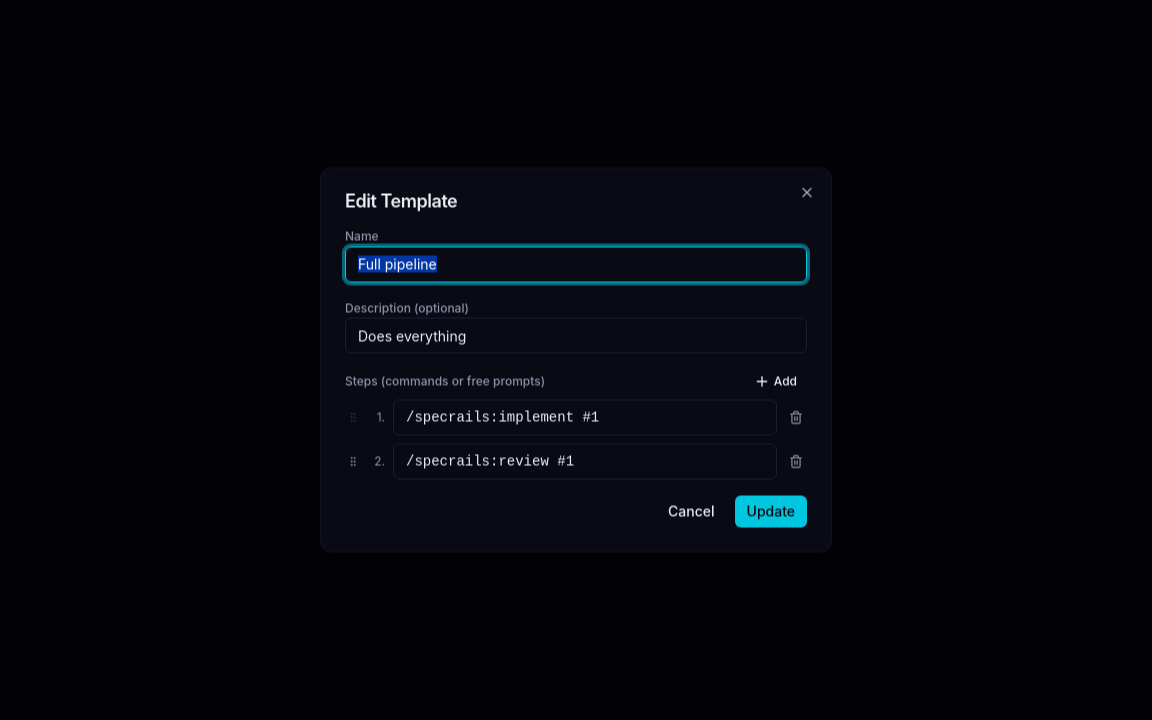
it: CreateTemplateDialog › removes a command row when Remove is clicked (only when >1 exist)
Click the 1st button named "Remove step" at (796, 418), box [785,406,807,428]
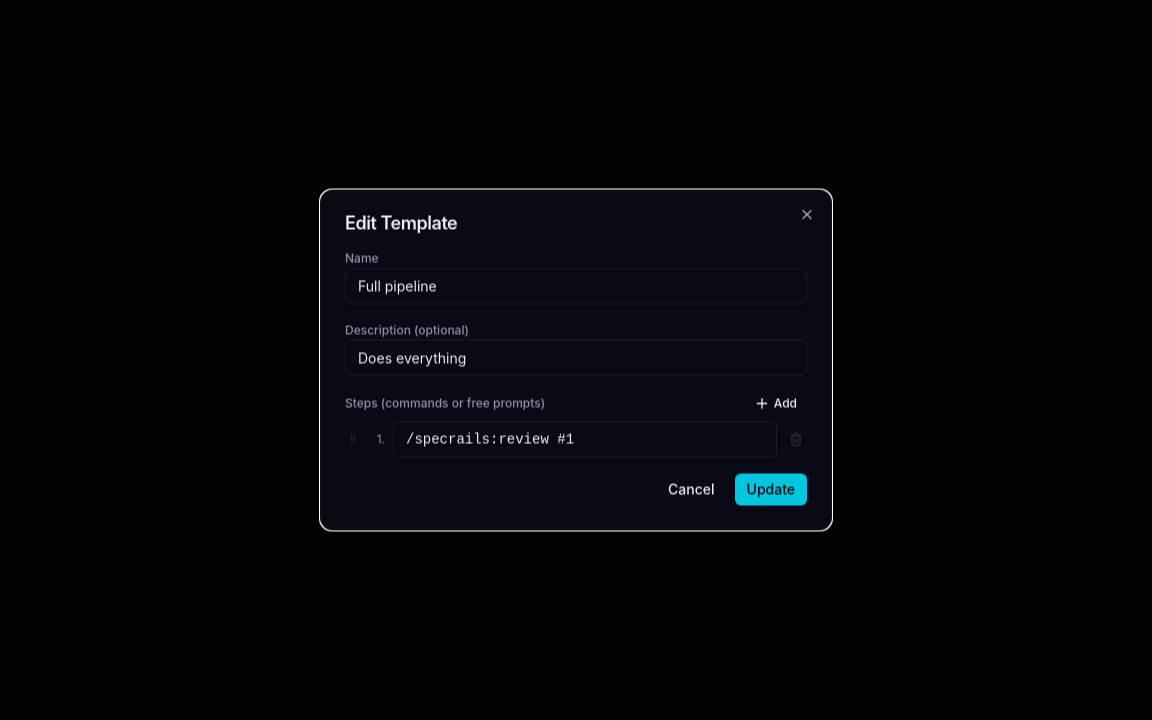
Result: the number of fields with placeholder "Select a command or type a free prompt..." is 1 at [393,422,777,458]
